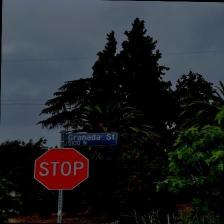Stop: (34, 146, 88, 191)
